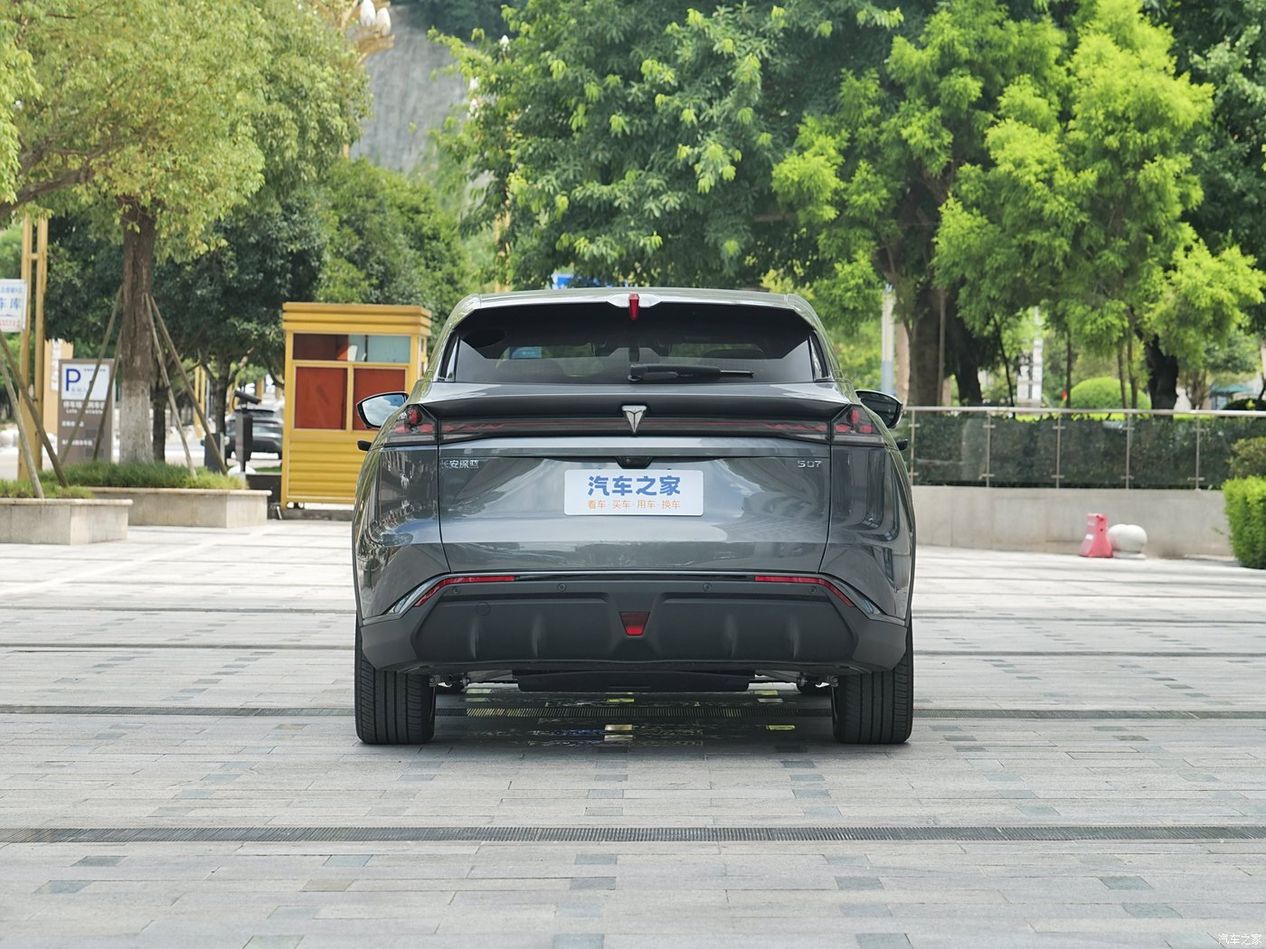Deepal: (626, 408, 644, 431)
